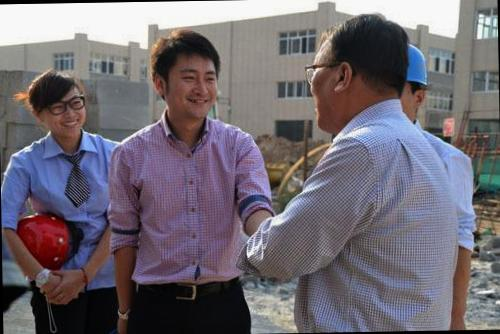no_helmet: (314, 13, 412, 130), (152, 30, 224, 128), (27, 67, 90, 144)
